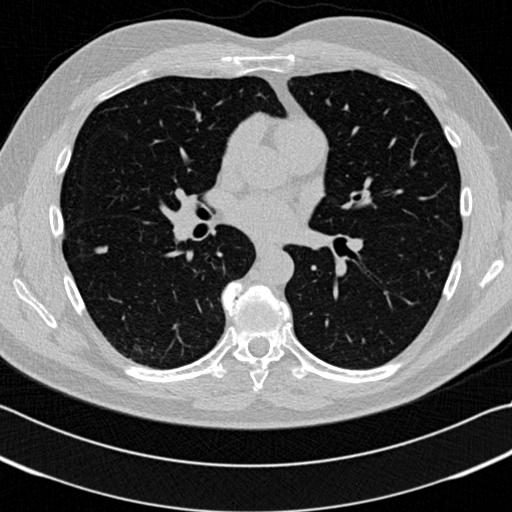nodule: (94, 242, 109, 257)
